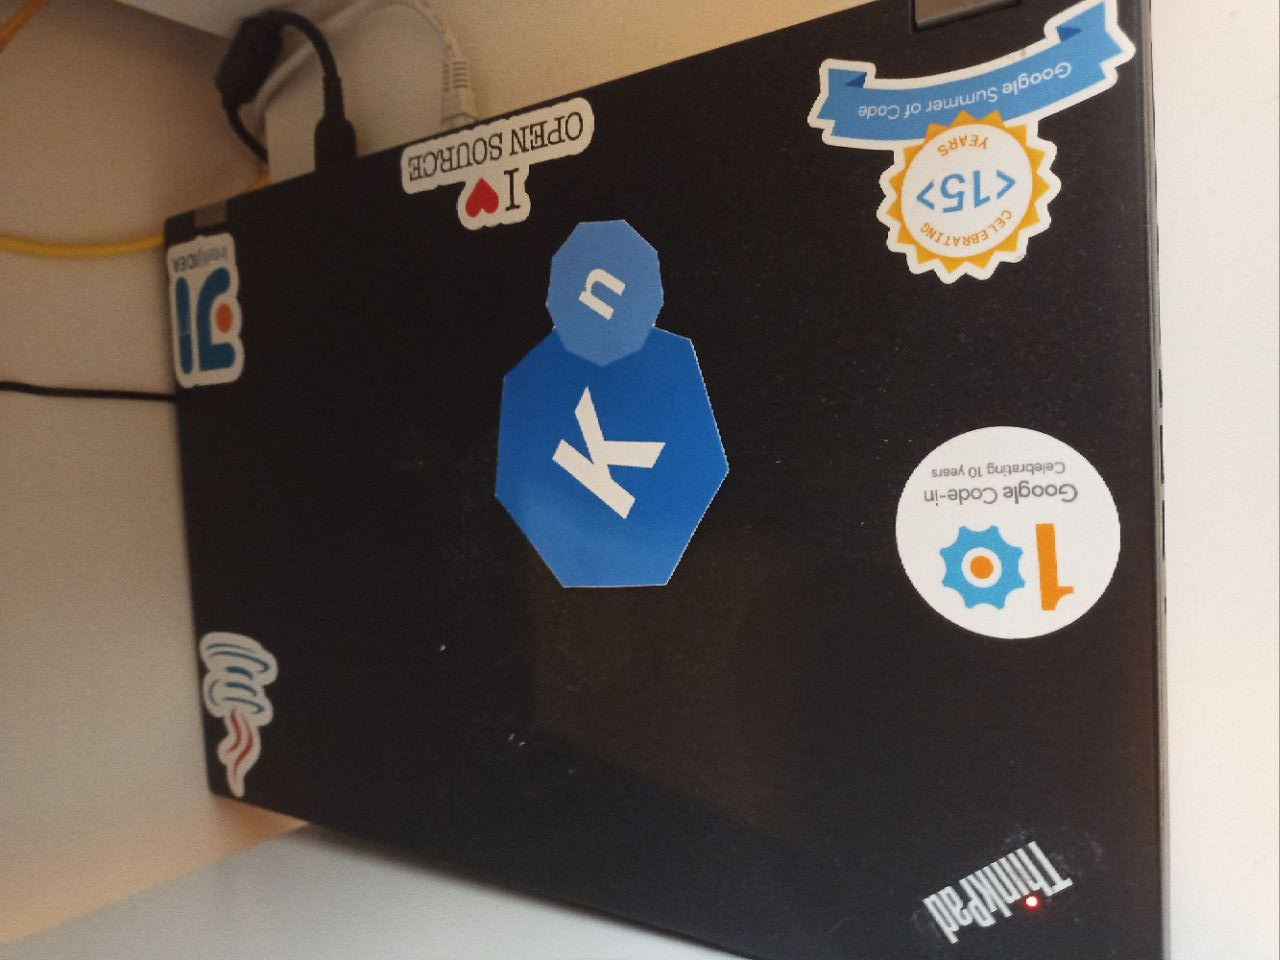knative: (494, 219, 728, 588)
